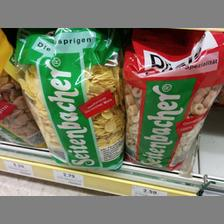Cerealien: (13, 32, 121, 168), (122, 37, 223, 172)
